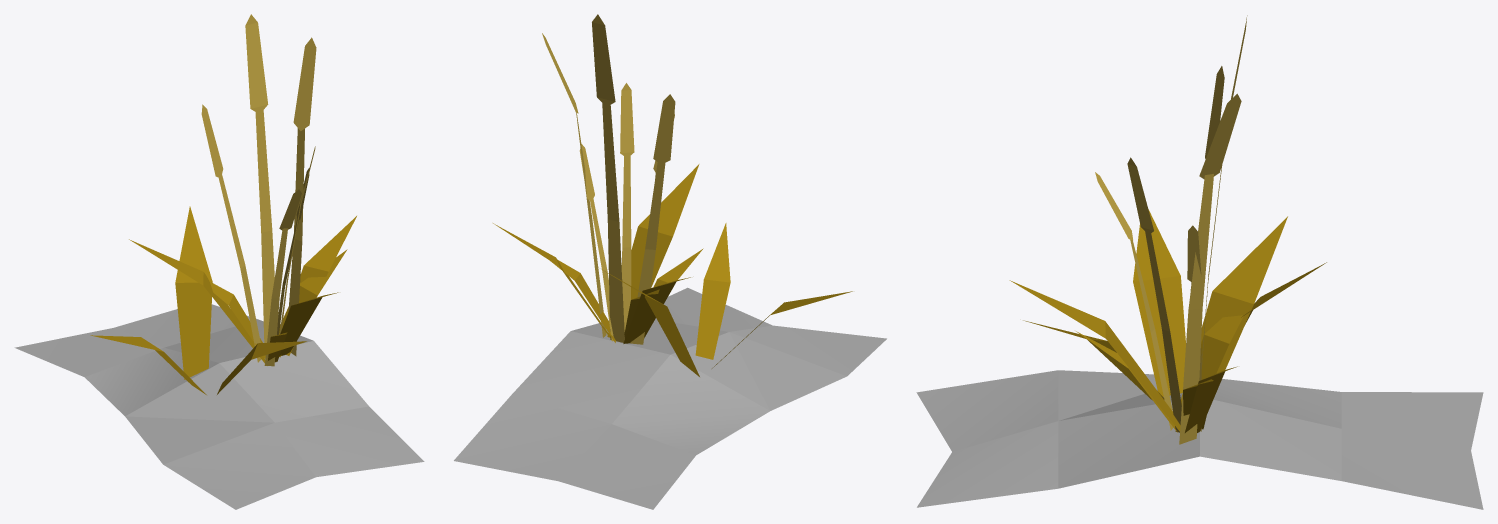
File: wheatfield_end.fbx
3 renders of one model, left to right at view 1: azimuth 30°, elevation 25°; view 2: azimuth 150°, elevation 25°; view 3: azimuth 270°, elevation 25°, orthographic. The views are drawn at different scales.
Parts seen in each view (by area): view 1: wheat_end, wheat_group03; view 2: wheat_end, wheat_group03; view 3: wheat_end, wheat_group03.
Part boxes in pixels (left/top/right/bottom): wheat_end: left=14, top=304, right=424, bottom=509; wheat_group03: left=90, top=14, right=356, bottom=394; wheat_end: left=454, top=287, right=886, bottom=509; wheat_group03: left=493, top=14, right=852, bottom=376; wheat_end: left=916, top=370, right=1483, bottom=509; wheat_group03: left=1009, top=15, right=1326, bottom=444.
Size of the model in its own units: 2.15 by 2.46 by 2.69.
